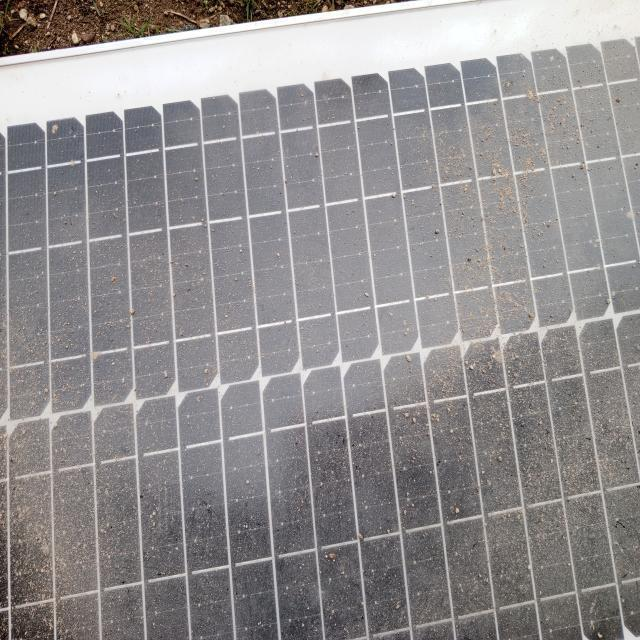Anomaly Solar Panel: (0, 34, 639, 639)
Surface Contaminant: (0, 35, 639, 639)
